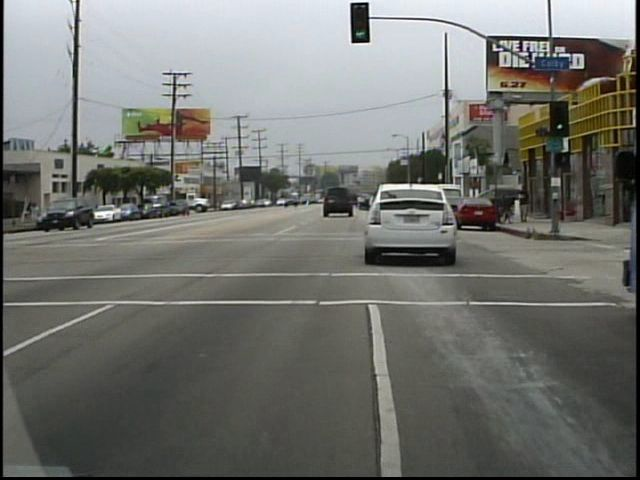person: (515, 180, 536, 230), (37, 200, 38, 229)
